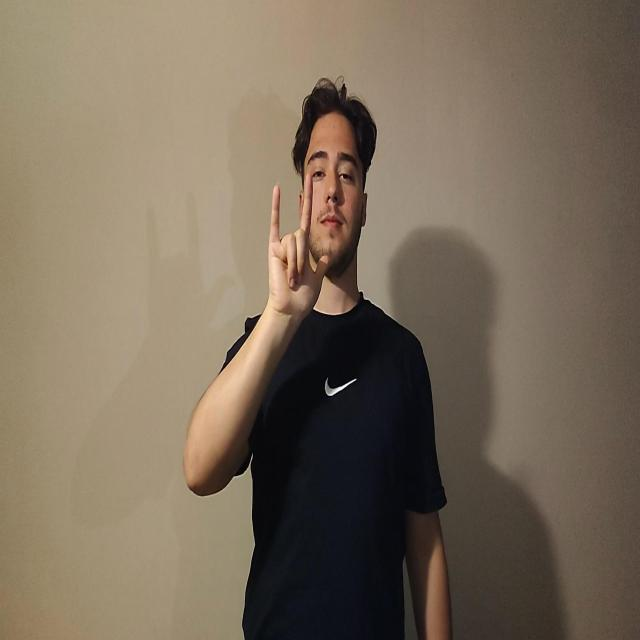iloveyou: (267, 175, 329, 320)
